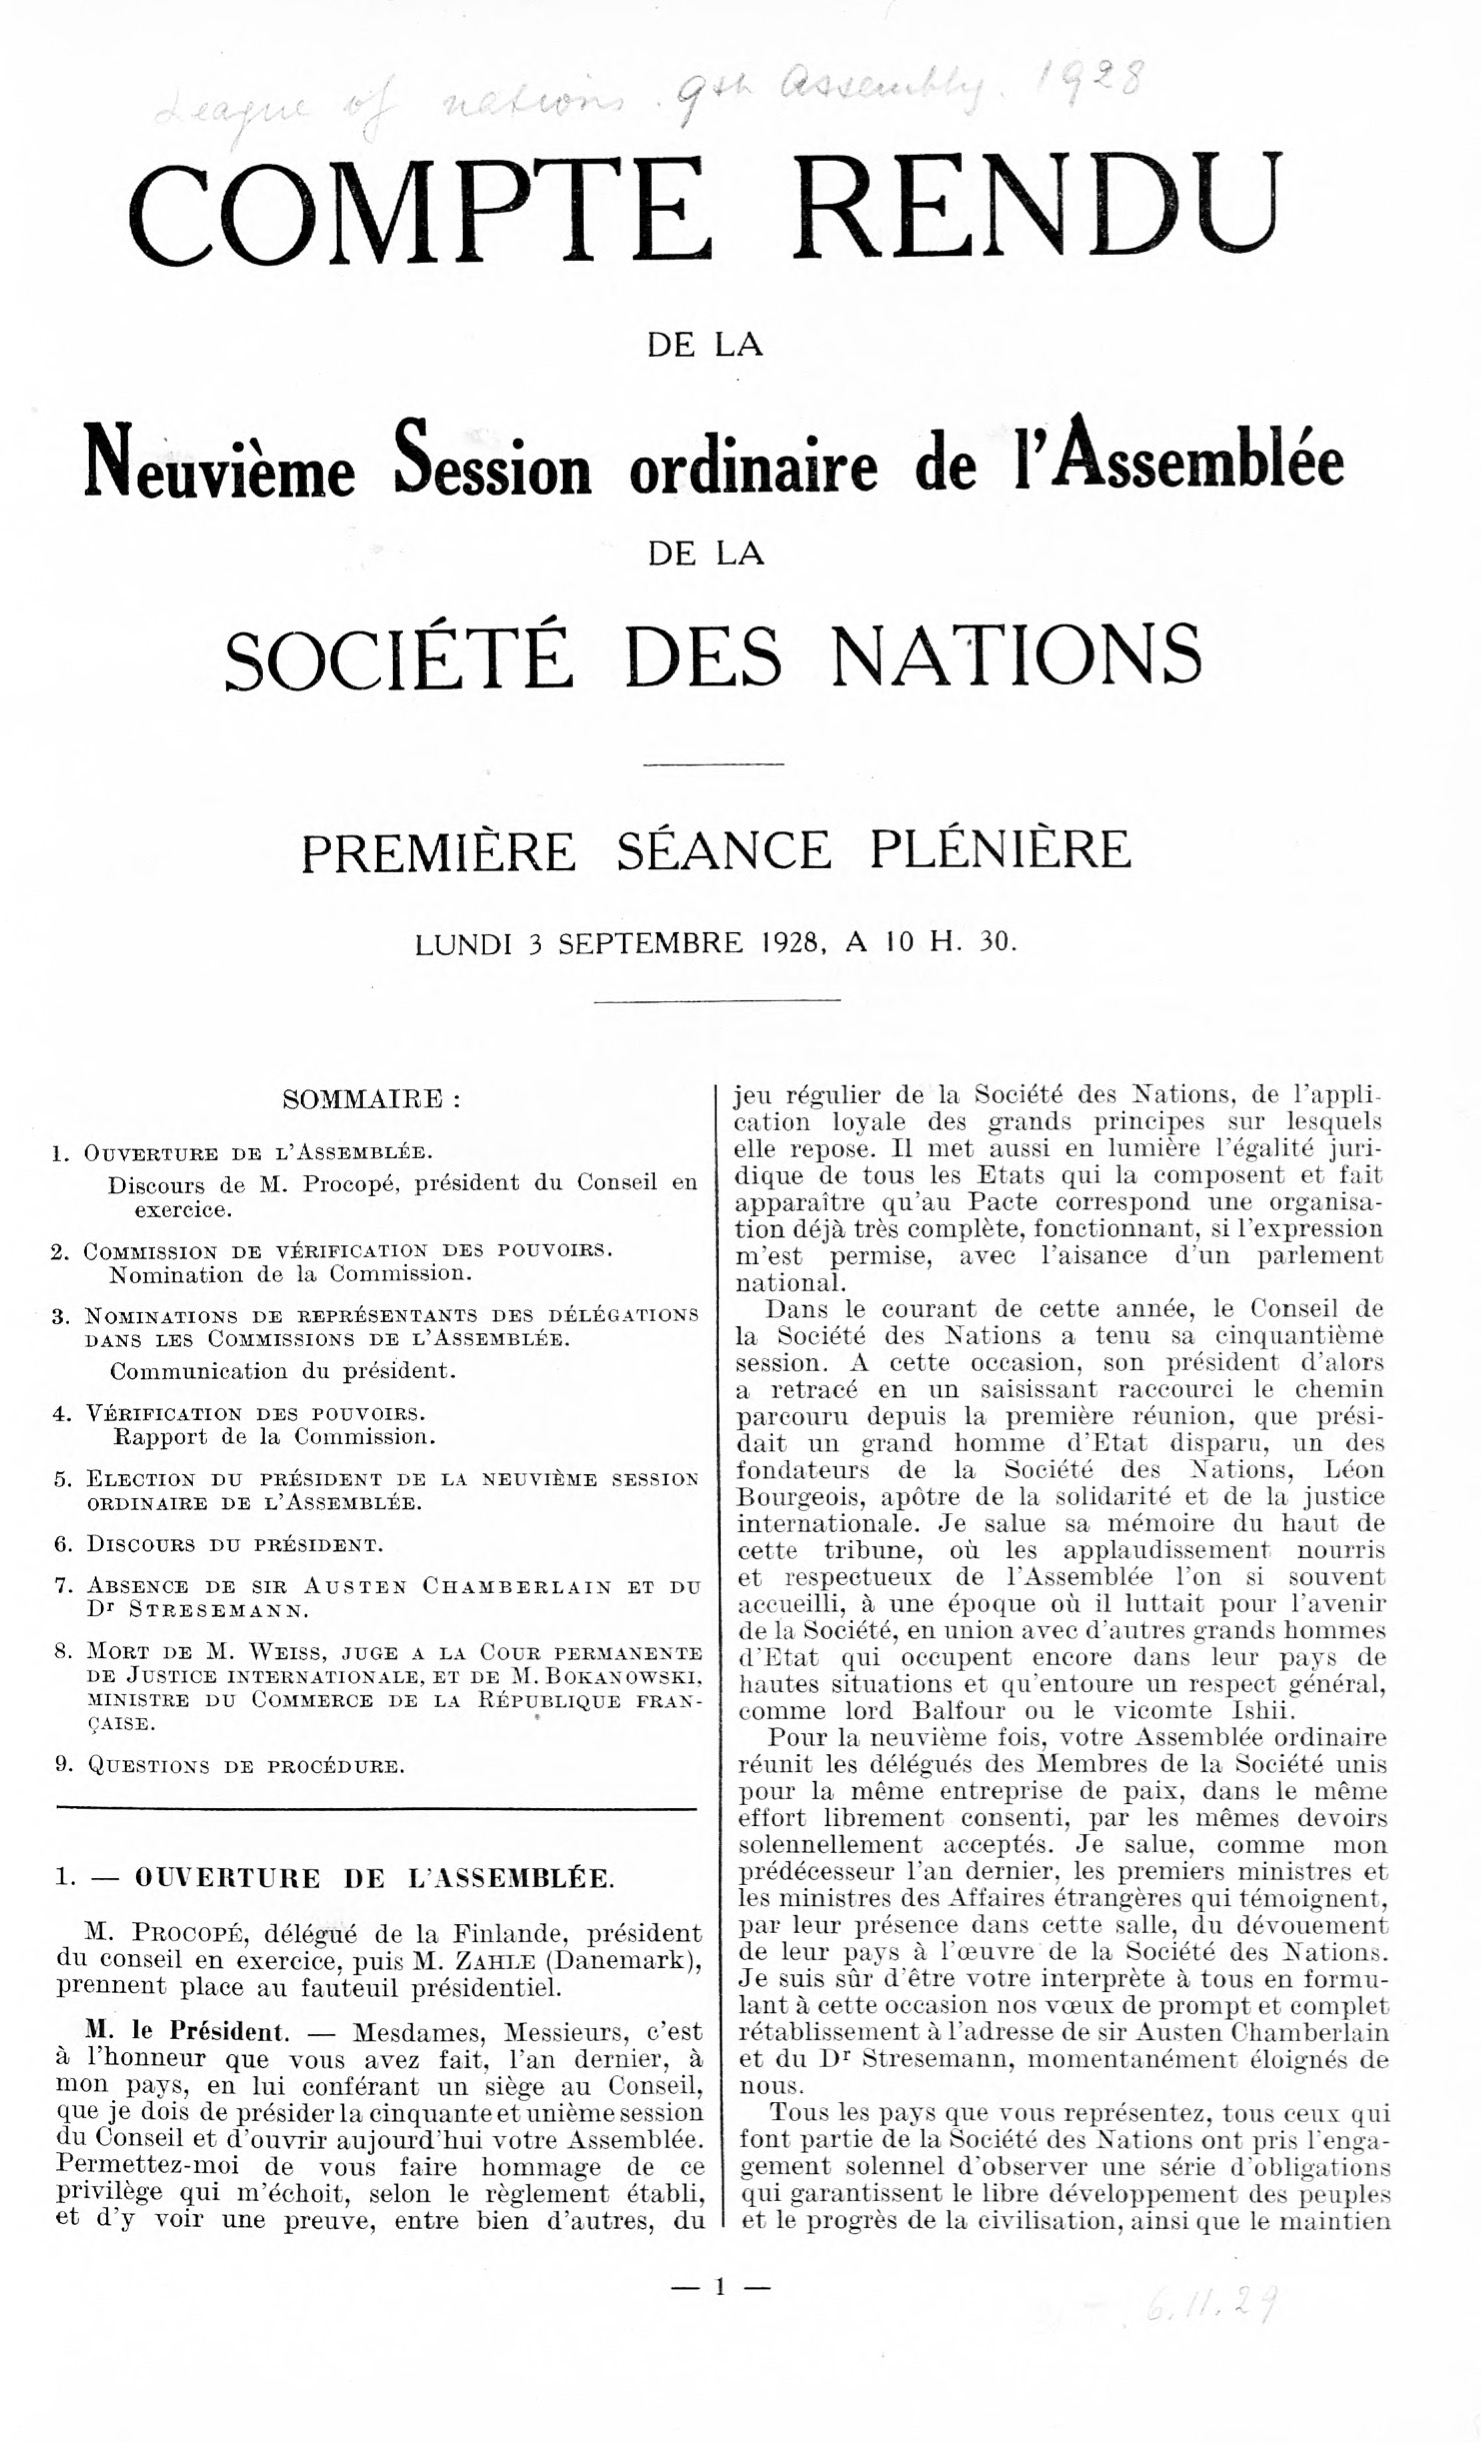MainZone-Continued: (727, 1075, 1393, 1294)
MainZone-Head: (43, 140, 1377, 973), (48, 1852, 626, 1899), (274, 1076, 470, 1118)
MainZone-ListItem: (47, 1636, 709, 1740), (39, 1297, 706, 1390), (46, 1569, 703, 1629), (44, 1460, 693, 1520), (37, 1232, 638, 1292), (69, 1170, 701, 1226), (40, 1394, 463, 1454), (47, 1746, 417, 1786), (47, 1524, 397, 1566), (40, 1133, 446, 1168)
MainZone-P: (728, 1295, 1394, 1726), (731, 1724, 1396, 2098), (48, 2013, 710, 2245), (735, 2098, 1400, 2244), (48, 1914, 712, 2005)
MarginTextZone-ManuscriptAddendum: (152, 45, 1160, 153)
NumberingZone: (668, 2275, 782, 2306)
